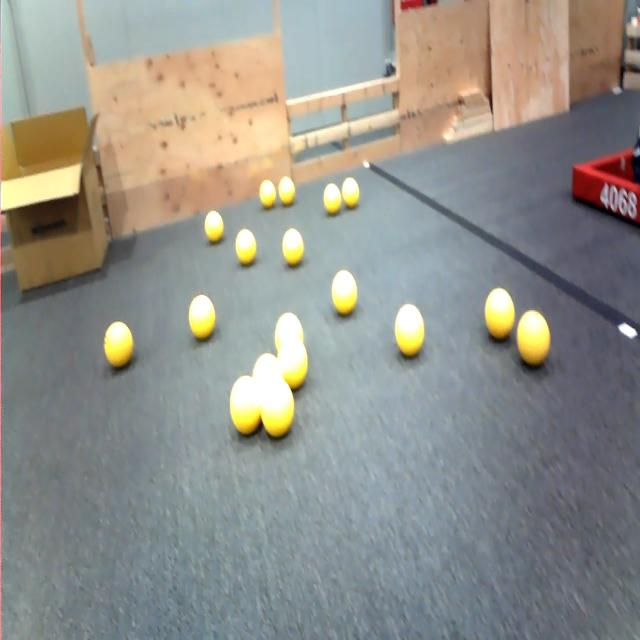fuel: (261, 377, 294, 438), (517, 311, 550, 367), (230, 376, 261, 435), (395, 304, 424, 357), (278, 338, 307, 390), (485, 288, 514, 340), (104, 321, 133, 368), (189, 295, 215, 340), (332, 271, 357, 315), (275, 312, 303, 351), (282, 229, 304, 266), (252, 353, 281, 380), (235, 229, 256, 265), (205, 211, 223, 243), (323, 183, 341, 215), (278, 176, 296, 206), (342, 177, 359, 207), (259, 180, 276, 208)
